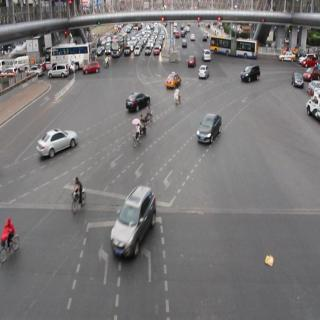BigCar: (212, 33, 259, 56), (44, 41, 92, 63)
Car: (112, 186, 156, 258), (37, 119, 82, 168), (197, 108, 223, 144), (239, 62, 263, 88), (125, 89, 152, 112), (291, 68, 305, 90), (279, 48, 296, 66), (48, 64, 68, 79), (166, 70, 180, 90), (82, 62, 99, 75), (198, 66, 210, 78), (186, 53, 197, 65), (203, 46, 211, 58)
